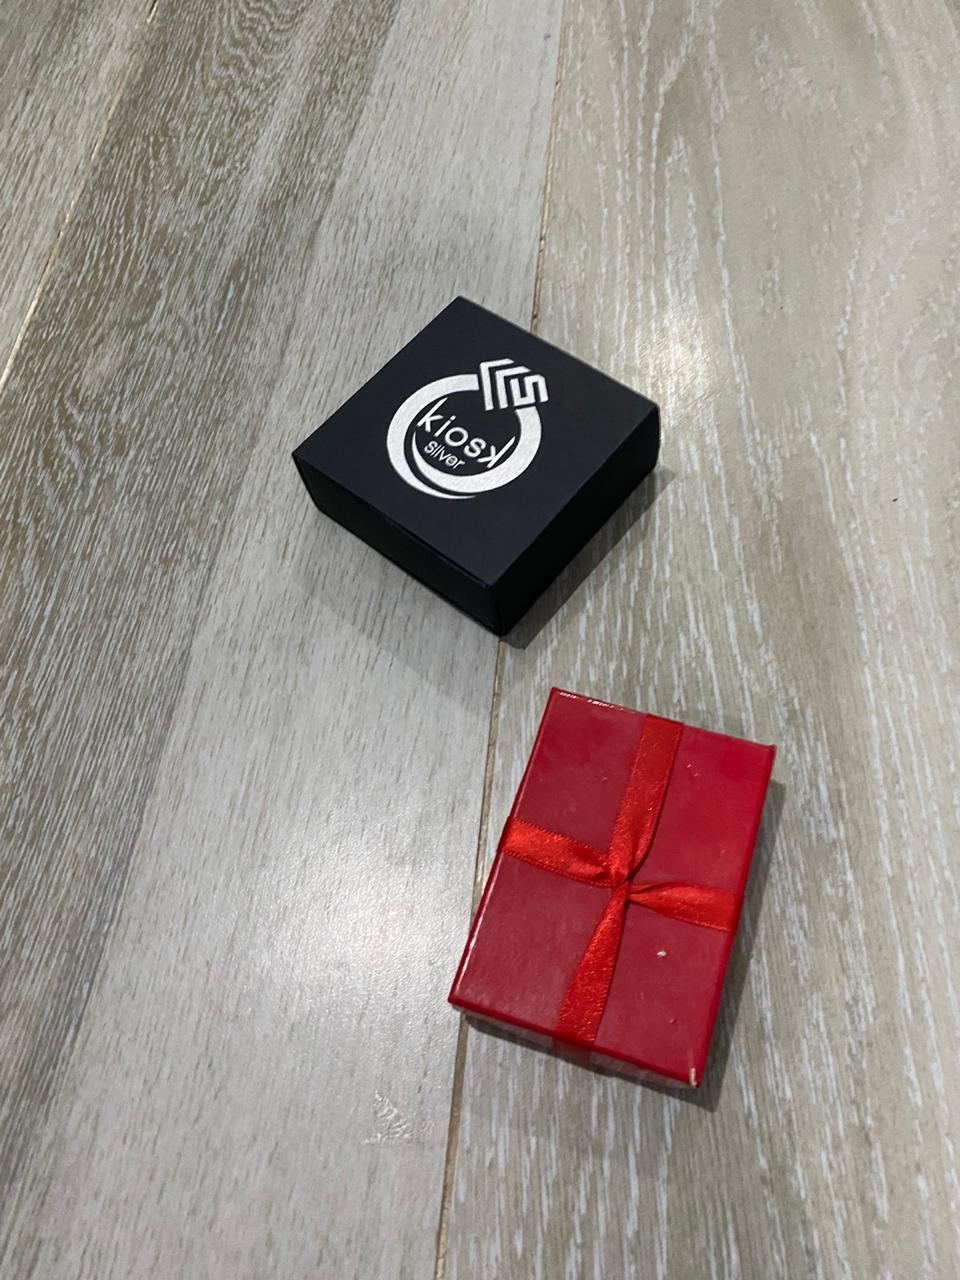Black Box: (436, 685, 779, 1102)
Red Box: (287, 296, 662, 635)
